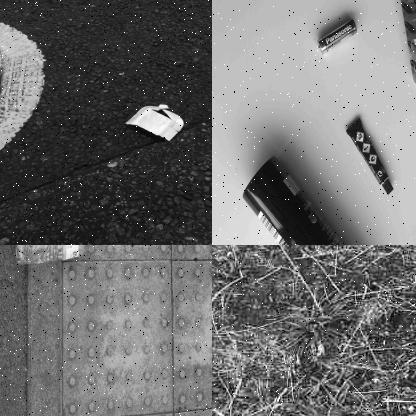metal: (240, 153, 397, 244), (318, 20, 358, 60)
plastic: (345, 112, 394, 198), (11, 245, 111, 272), (127, 102, 183, 140)
